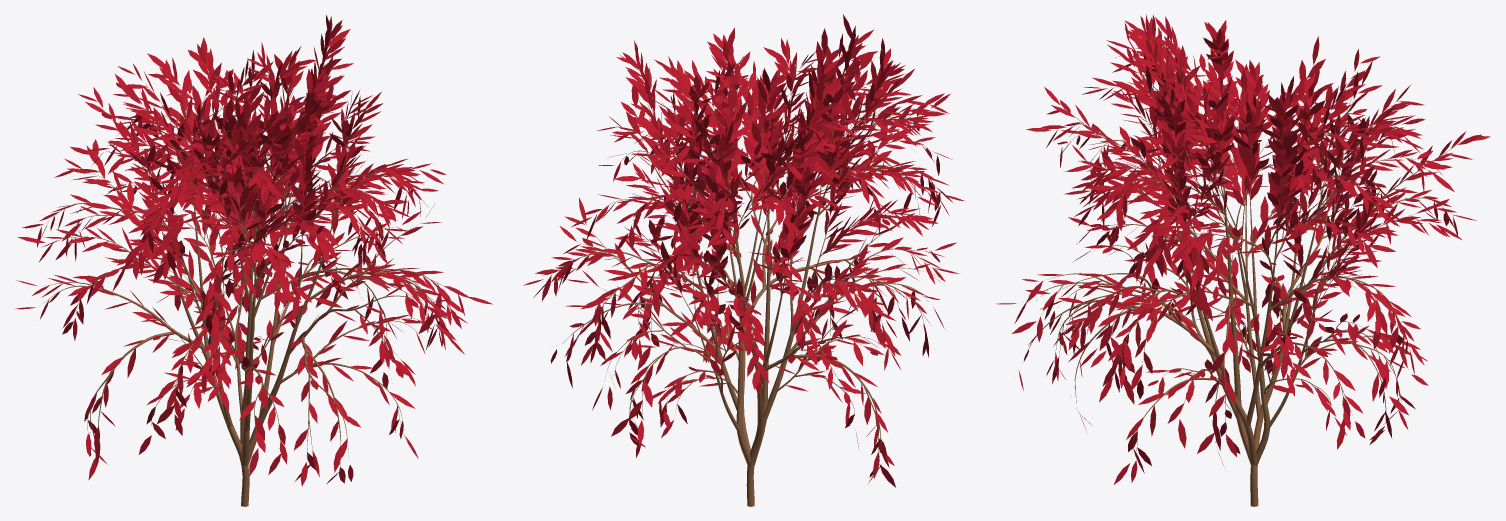
Rendered from tree-dead-complete-misc-0-014.glb.
3 views of the same model, side by side, from view 1: azimuth 30°, elevation 25°; view 2: azimuth 150°, elevation 25°; view 3: azimuth 270°, elevation 25° (orthographic). The views are drawn at different scales.
Visible parts, largest first — view 1: leaves.003_493, tree.006_524; view 2: leaves.003_493, tree.006_524; view 3: leaves.003_493, tree.006_524.
Boxes of the visible parts, x1=… form: leaves.003_493: x1=15, y1=15, x2=492, y2=485; tree.006_524: x1=43, y1=74, x2=450, y2=506; leaves.003_493: x1=523, y1=14, x2=964, y2=487; tree.006_524: x1=553, y1=75, x2=937, y2=506; leaves.003_493: x1=996, y1=14, x2=1490, y2=484; tree.006_524: x1=1023, y1=43, x2=1455, y2=506.
Bounding box in the file's own units: 1.58 × 1.9 × 1.82.
